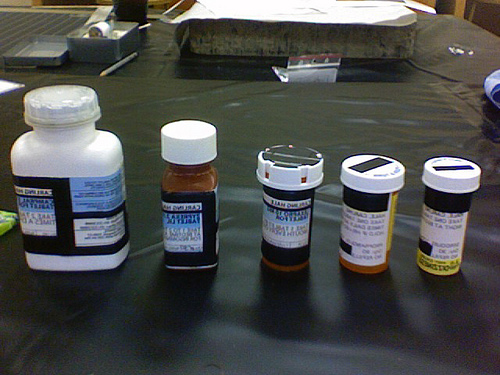pill bottle: (253, 142, 326, 276), (335, 151, 407, 279), (415, 154, 483, 283)
